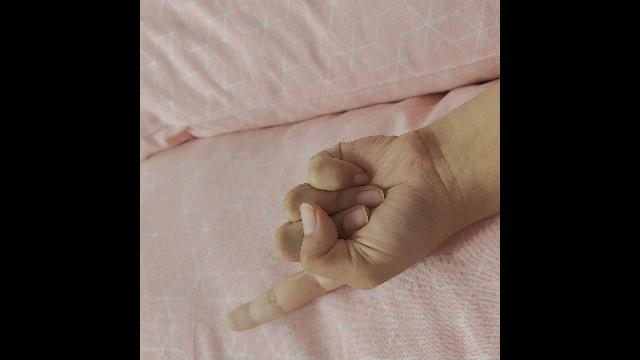soochi: (230, 77, 500, 330)
